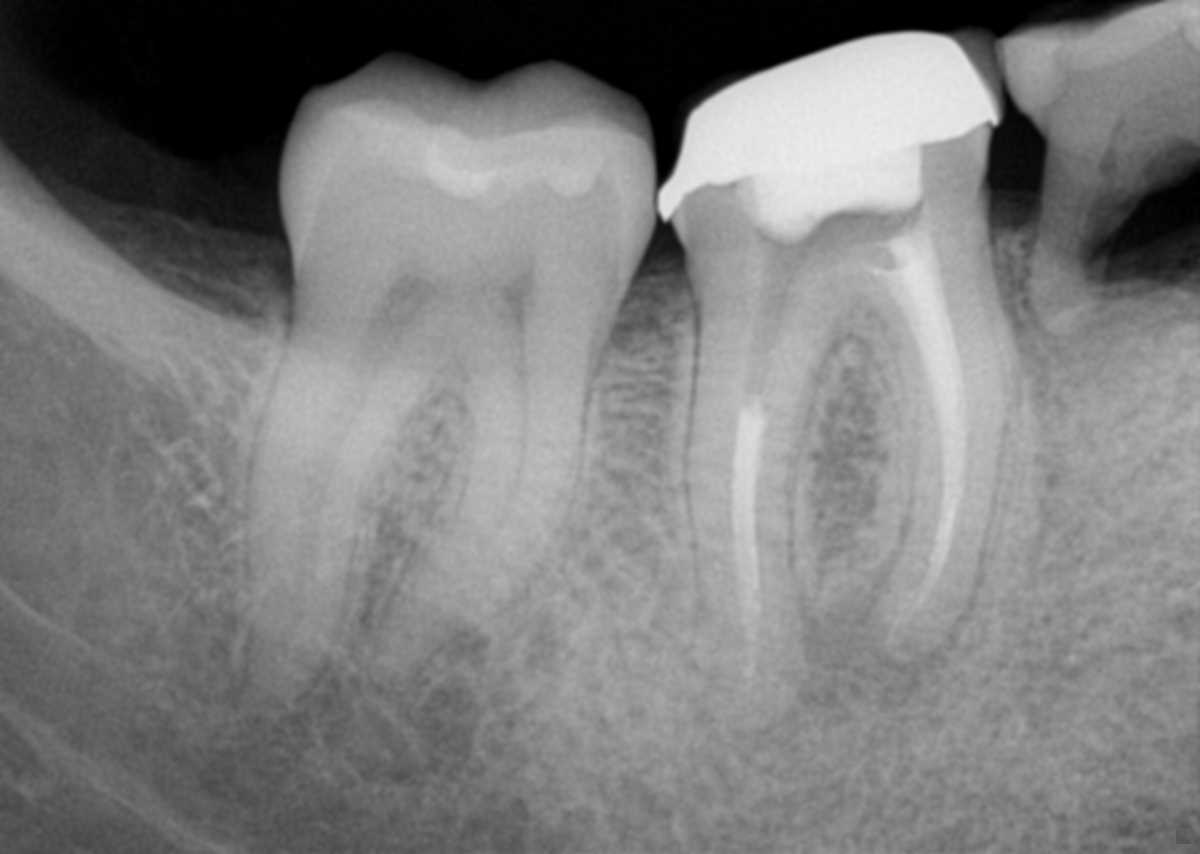Apical Lesion: (803, 582, 956, 735)
Distal Canal: (278, 327, 392, 679)
Distal Root: (237, 311, 440, 723), (683, 308, 827, 728), (1036, 196, 1136, 332)
Mesial Canal: (451, 351, 530, 595)
Mesial Root: (372, 347, 594, 696), (861, 268, 1013, 663)
Root Canal Filling: (875, 222, 965, 629), (730, 400, 766, 685)
